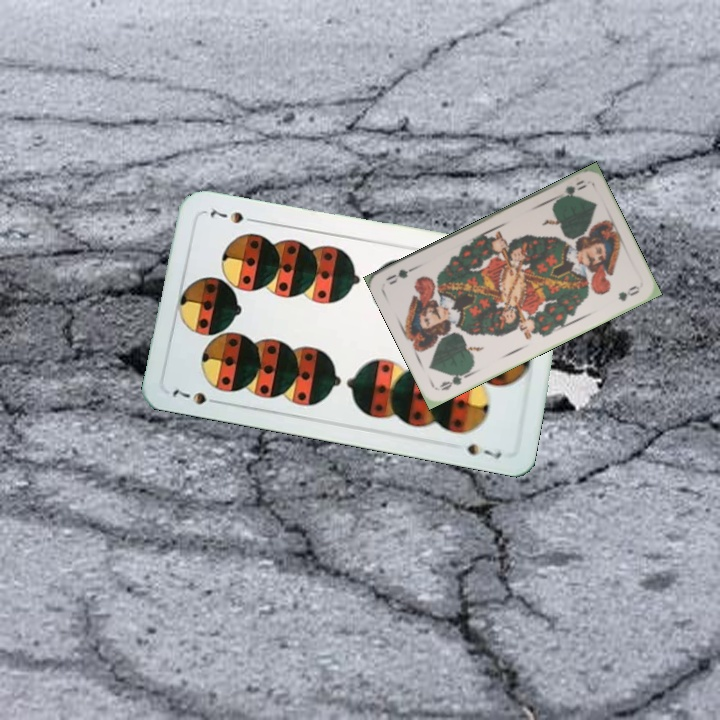GO: (435, 365, 474, 393), (551, 176, 589, 203)
S7: (168, 385, 224, 407)
